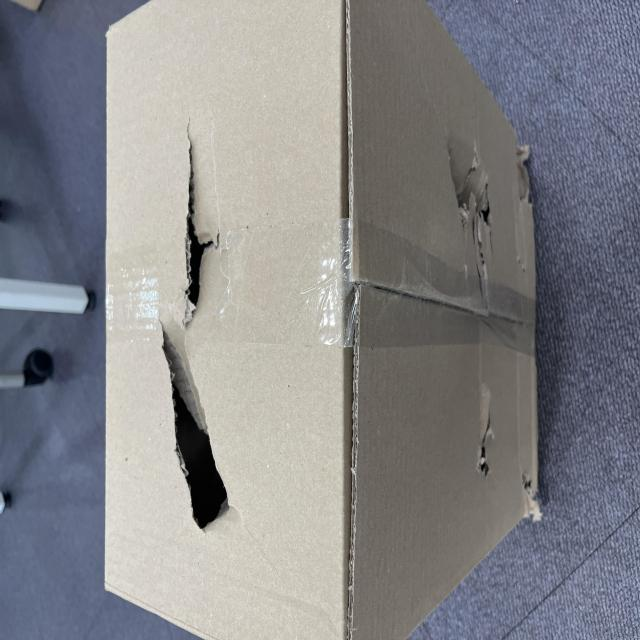damaged: (83, 207, 234, 309), (240, 233, 380, 292), (283, 588, 370, 640)
